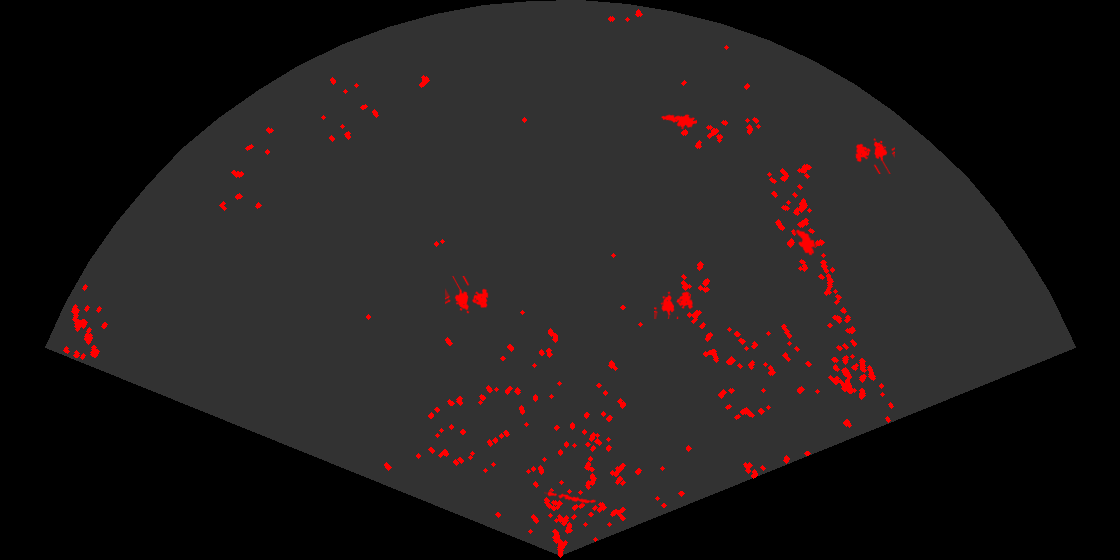AUV: (794, 228, 817, 257)
cage: (445, 276, 490, 315), (854, 137, 895, 174), (654, 290, 695, 319)
chain: (544, 490, 596, 505)
frogman: (659, 113, 697, 131)
